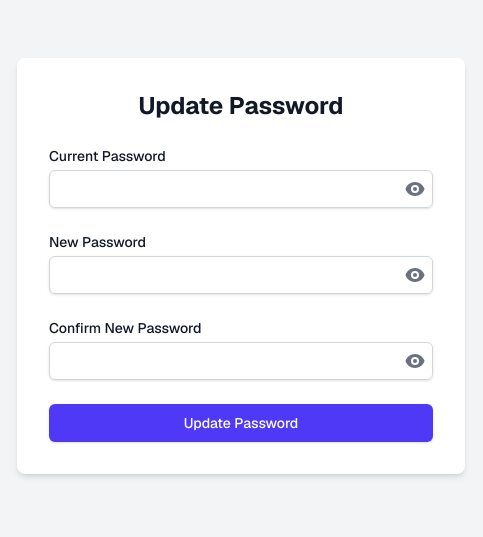
Test case: UpdatePasswordForm - Comprehensive Tests › Basic Validation › should clear validation errors when user fixes input
This screenshot has width=483, height=537.
# First, trigger validation errors
Type "123" into the password field labelled "Current Password".
click(241, 189); type("123")  # box [49,170,433,208]
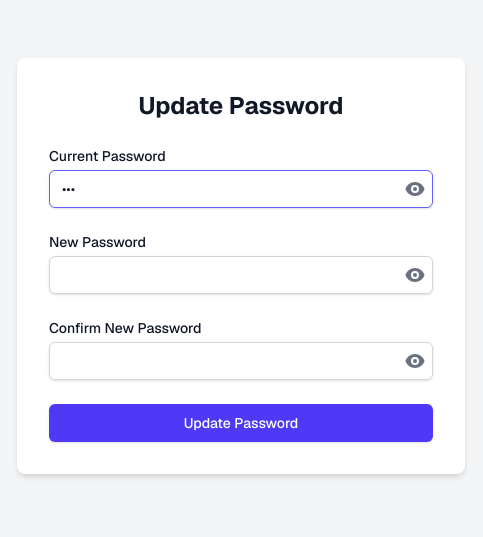
Click the button "Update Password".
click(241, 423)  # box [49,404,433,442]
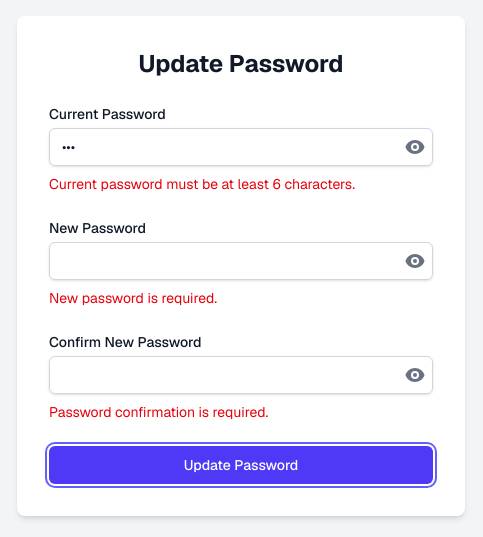
Now the text "Current password must be at least 6 characters." is shown, box [49,175,355,193]
Now the text "New password is required." is shown, box [49,289,217,307]
# Now fix the errors
Type "password123" into the password field labelled "Current Password".
click(241, 147); type("password123")  # box [49,128,433,166]
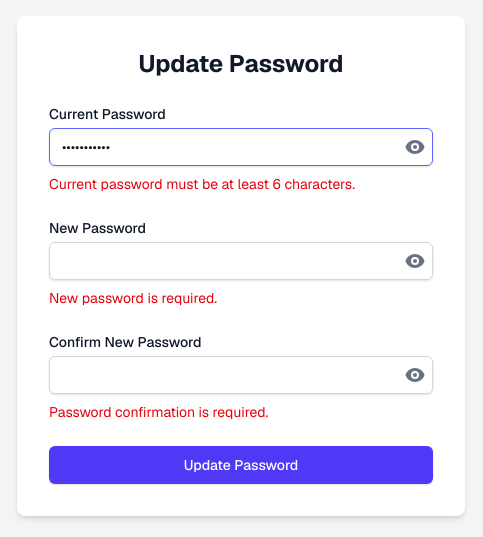
Type "NewPassword123" into the password field labelled "New Password".
click(241, 261); type("NewPassword123")  # box [49,242,433,280]
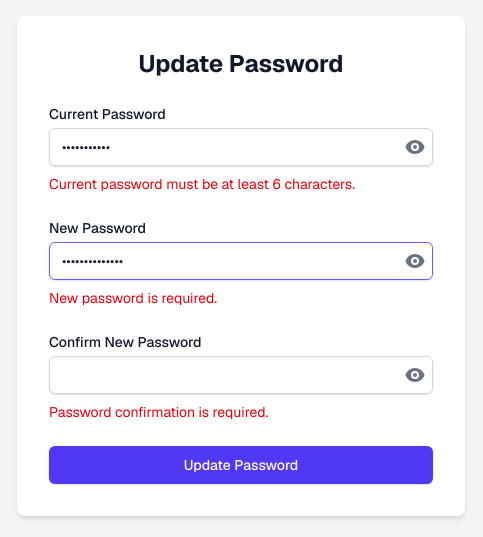
Click the button "Update Password".
click(241, 465)  # box [49,446,433,484]
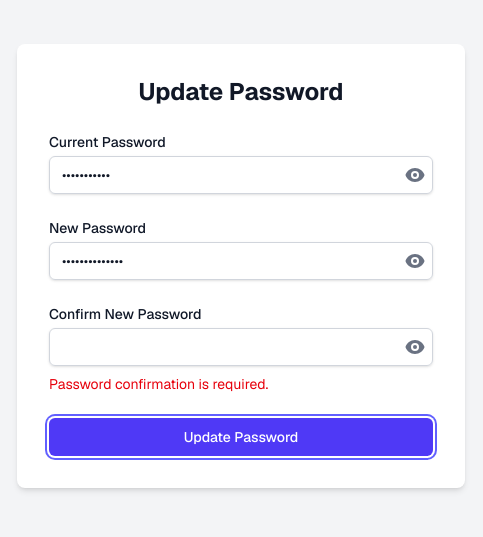
Now the text "Current password must be at least 6 characters." is gone
Now the text "New password is required." is gone
